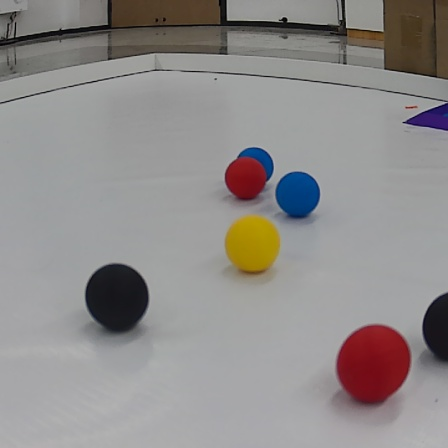black: (85, 264, 149, 331), (423, 280, 448, 361)
blue: (276, 172, 322, 219), (237, 144, 275, 178)
red: (333, 323, 412, 404), (220, 158, 267, 198)
yellow: (224, 213, 280, 274)
